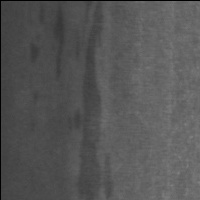inclusion: (72, 2, 121, 200), (45, 6, 71, 86), (26, 36, 43, 66)
